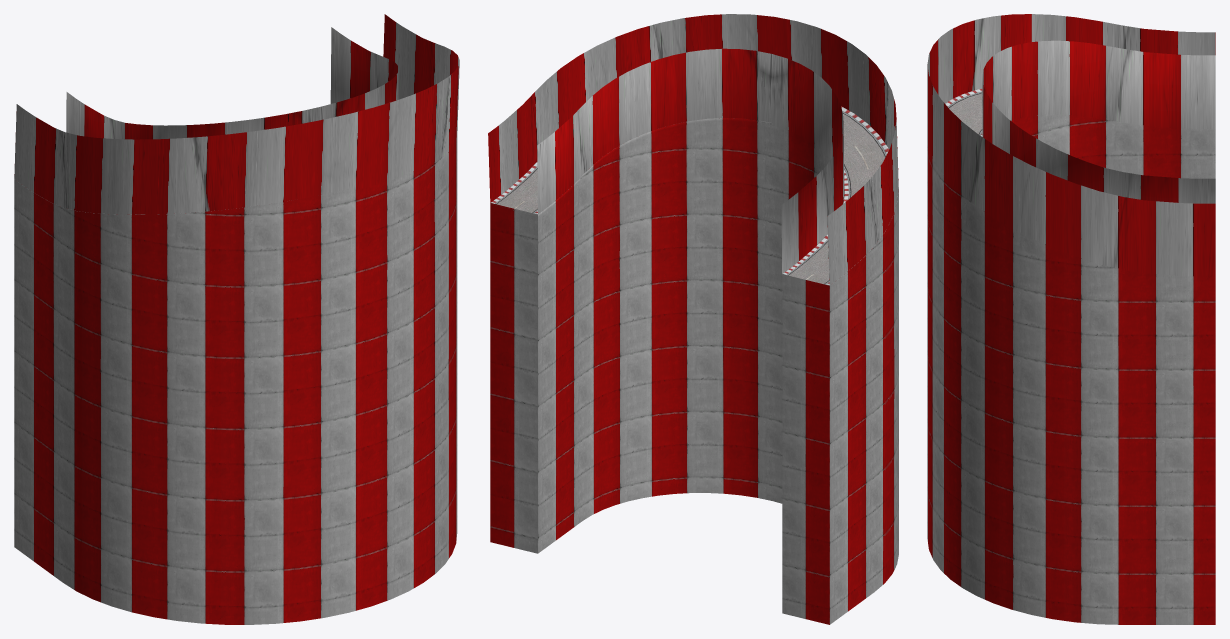
The model's file is track_curved.fbx.
3 views of the same model, side by side, from view 1: azimuth 30°, elevation 25°; view 2: azimuth 150°, elevation 25°; view 3: azimuth 270°, elevation 25° (orthographic). The views are drawn at different scales.
Parts seen in each view (by area): view 1: polySurface1, colider; view 2: polySurface1, colider; view 3: polySurface1, colider.
Boxes of the visible parts, bbox=[...] form: polySurface1: bbox=[14, 102, 457, 624]; colider: bbox=[14, 14, 459, 214]; polySurface1: bbox=[490, 106, 898, 624]; colider: bbox=[488, 14, 898, 285]; polySurface1: bbox=[927, 89, 1215, 624]; colider: bbox=[927, 14, 1215, 276].
Bounding box in the file's own units: 24347 × 31317 × 17178.
